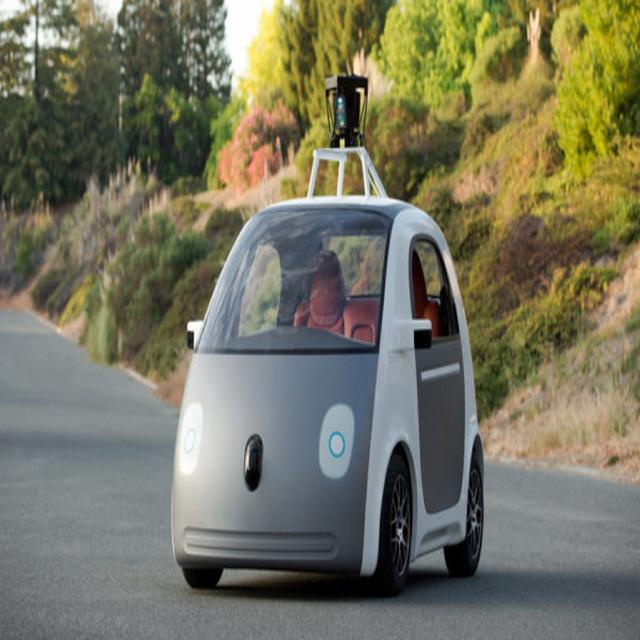other: (167, 72, 485, 590)
